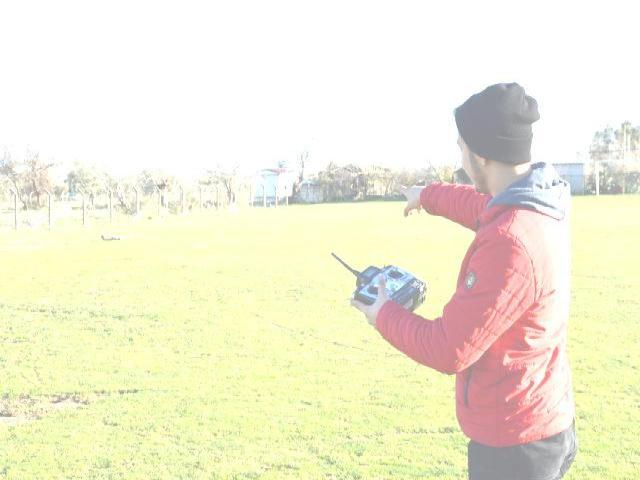iha: (94, 227, 136, 245)
